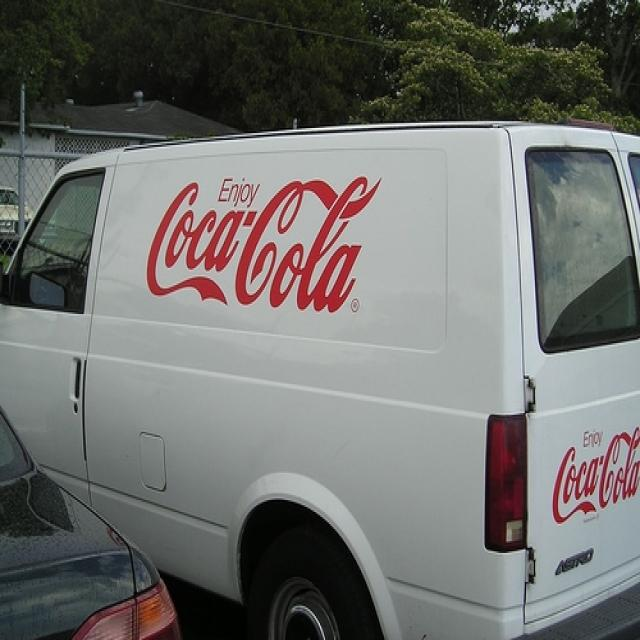cocacola: (133, 162, 395, 324), (544, 414, 640, 535)
